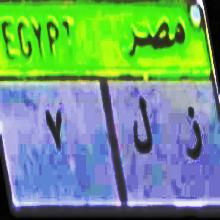7: (44, 104, 64, 162)
laam: (132, 89, 156, 168)
zay: (179, 106, 203, 167)
